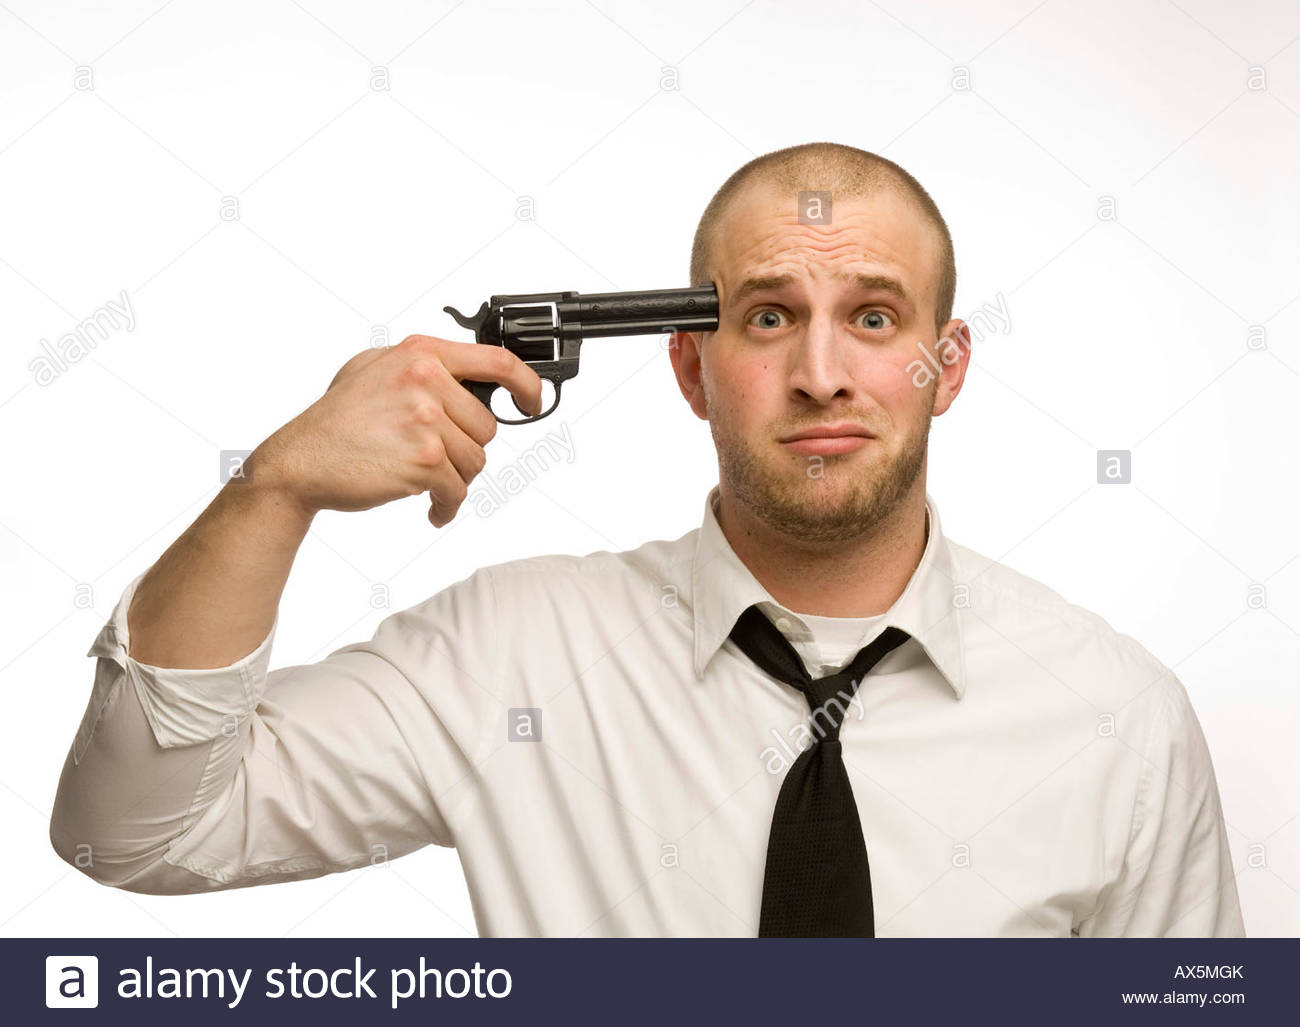Revolver: (382, 250, 718, 439)
